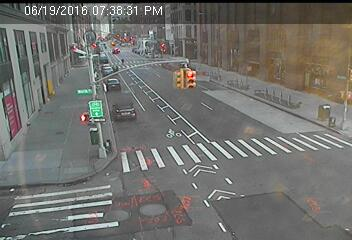neg: (138, 40, 146, 51)
